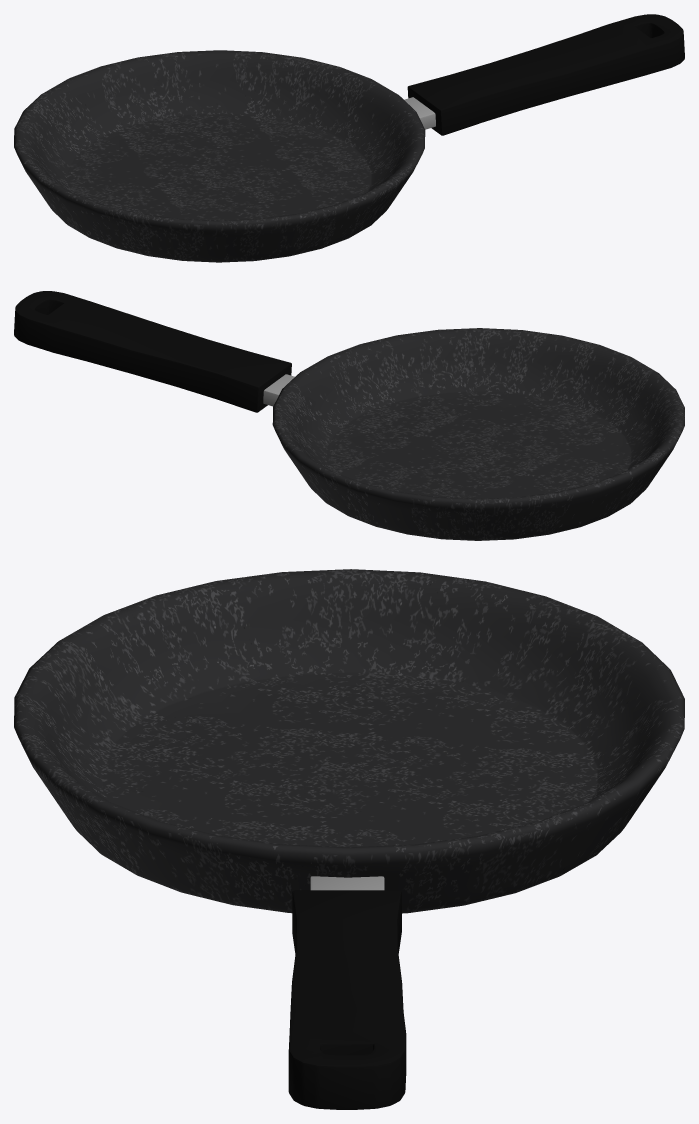
Rendered from FryingPan.fbx.
3 renders of one model, top to bottom at view 1: azimuth 30°, elevation 25°; view 2: azimuth 150°, elevation 25°; view 3: azimuth 270°, elevation 25°, orthographic. The views are drawn at different scales.
Parts seen in each view (by area): view 1: Frying_Pan_Base, Frying_Pan_Handle; view 2: Frying_Pan_Base, Frying_Pan_Handle; view 3: Frying_Pan_Base, Frying_Pan_Handle.
Boxes of the visible parts, <box> form: Frying_Pan_Base: <box>14,50,425,262</box>; Frying_Pan_Handle: <box>404,14,684,135</box>; Frying_Pan_Base: <box>272,328,684,540</box>; Frying_Pan_Handle: <box>14,291,294,412</box>; Frying_Pan_Base: <box>14,569,684,913</box>; Frying_Pan_Handle: <box>288,876,406,1109</box>.
Size of the model in its own units: 172 by 14.73 by 96.27.
4 materials, 2 textured.
